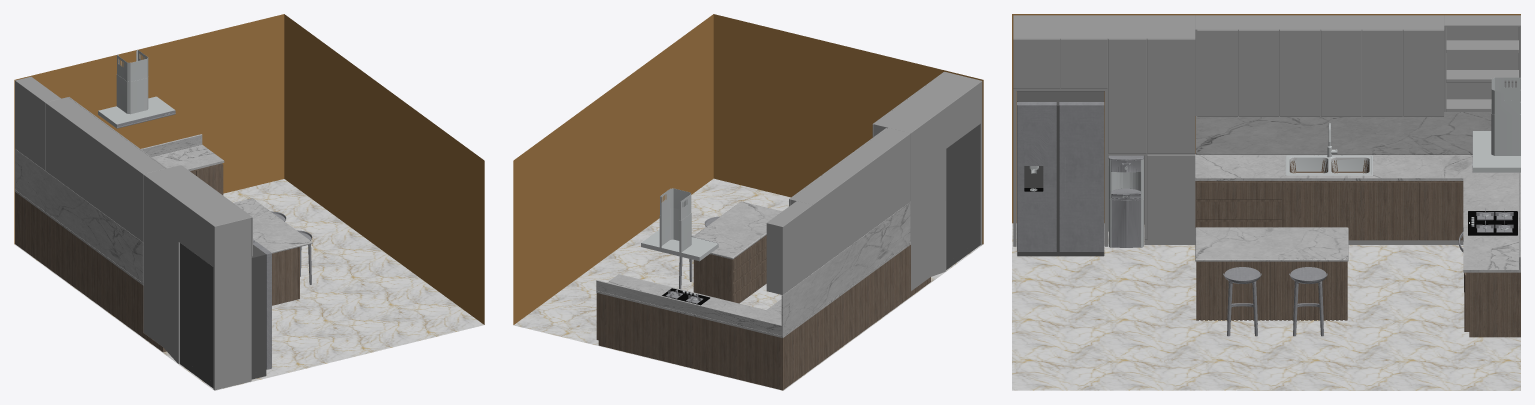
The model's file is pendant-lamp-rose-inscene.glb.
The picture shows the model from 3 angles, left to right: view 1: azimuth 30°, elevation 25°; view 2: azimuth 150°, elevation 25°; view 3: azimuth 270°, elevation 25°; orthographic projection. The views are drawn at different scales.
Parts seen in each view (by area): view 1: room, Plane.071, Plane.068, Plane.073, Plane.058, Plane.061, Box119, Plane.054, Plane.070, Plane.065, Plane.066, Plane.062 (+1 smaller); view 2: room, Plane.073, Plane.071, Plane.068, Plane.061, Plane.058, Plane.054, Box119, Plane.070, Plane.065, Plane.062, Plane.066 (+2 smaller); view 3: room, Plane.063, Plane.072, Plane.058, Plane.060, Plane.061, Plane.065, Plane.071, Plane.073, Plane.055, Plane.070, Plane.068 (+9 smaller).
Part boxes in pixels (bbox=[...]): room: bbox=[14, 14, 484, 390]; Plane.071: bbox=[143, 165, 251, 390]; Plane.068: bbox=[45, 97, 165, 241]; Plane.073: bbox=[15, 163, 222, 352]; Plane.058: bbox=[180, 239, 271, 387]; Plane.061: bbox=[15, 149, 143, 282]; Box119: bbox=[98, 50, 175, 128]; Plane.054: bbox=[15, 76, 60, 170]; Plane.070: bbox=[233, 198, 312, 253]; Plane.065: bbox=[15, 144, 224, 285]; Plane.066: bbox=[272, 247, 298, 305]; Plane.062: bbox=[141, 134, 202, 156]; room: bbox=[513, 14, 983, 390]; Plane.073: bbox=[596, 245, 930, 390]; Plane.071: bbox=[874, 72, 982, 290]; Plane.068: bbox=[790, 128, 910, 272]; Plane.061: bbox=[781, 202, 910, 335]; Plane.058: bbox=[946, 124, 979, 269]; Plane.054: bbox=[766, 201, 812, 294]; Box119: bbox=[641, 188, 718, 261]; Plane.070: bbox=[693, 201, 781, 259]; Plane.065: bbox=[596, 242, 910, 338]; Plane.062: bbox=[596, 280, 781, 335]; Plane.066: bbox=[695, 235, 766, 303]; room: bbox=[1012, 14, 1520, 390]; Plane.063: bbox=[1197, 29, 1444, 116]; Plane.072: bbox=[1013, 38, 1195, 240]; Plane.058: bbox=[1017, 91, 1104, 256]; Plane.060: bbox=[1196, 182, 1463, 240]; Plane.061: bbox=[1195, 112, 1491, 154]; Plane.065: bbox=[1195, 154, 1520, 272]; Plane.071: bbox=[1013, 15, 1195, 246]; Plane.073: bbox=[1144, 160, 1520, 337]; Plane.055: bbox=[1196, 261, 1347, 320]; Plane.070: bbox=[1195, 227, 1348, 261]; Plane.068: bbox=[1195, 15, 1444, 115].
Bounding box in the file's own units: 4.14 × 2.41 × 5.31.
26 materials, 12 textured.
